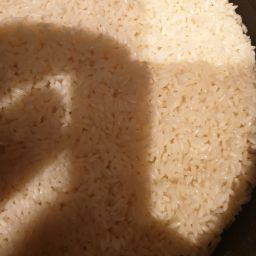Rice: (45, 2, 256, 254), (3, 1, 185, 236), (53, 31, 244, 245)
